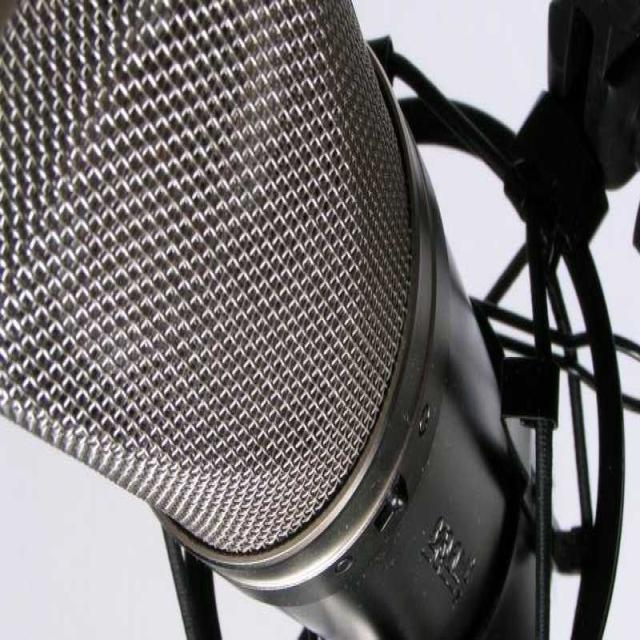microphone: (5, 1, 482, 636)
